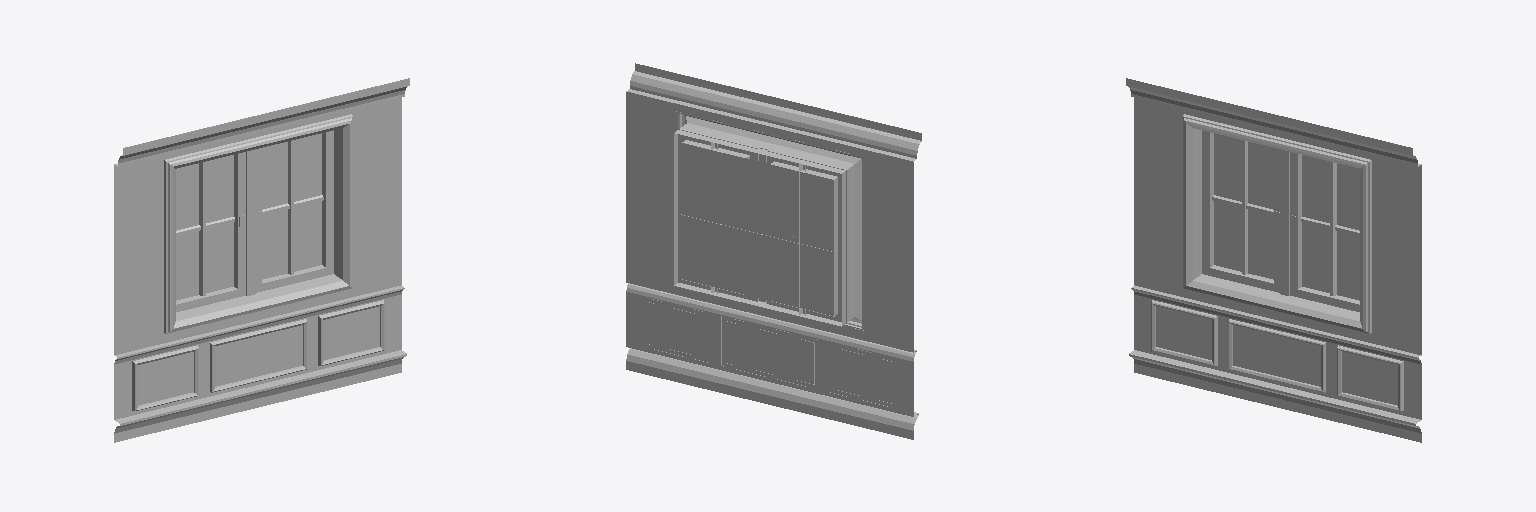
Rendered from mansion1_window.obj.
3 renders of one model, left to right at view 1: azimuth 30°, elevation 25°; view 2: azimuth 150°, elevation 25°; view 3: azimuth 330°, elevation 25°, orthographic.
Parts seen in each view (by area): view 1: mansionbase_wall_window1, mansionbase_wall_windowglass; view 2: mansionbase_wall_window1, mansionbase_wall_windowglass; view 3: mansionbase_wall_window1, mansionbase_wall_windowglass.
Boxes of the visible parts, <box> form: mansionbase_wall_window1: <box>114,78,409,442</box>; mansionbase_wall_windowglass: <box>176,133,321,300</box>; mansionbase_wall_window1: <box>626,63,921,439</box>; mansionbase_wall_windowglass: <box>682,143,833,315</box>; mansionbase_wall_window1: <box>1126,78,1421,442</box>; mansionbase_wall_windowglass: <box>1214,133,1359,300</box>.
Size of the model in its own units: 4 by 4 by 0.4944.